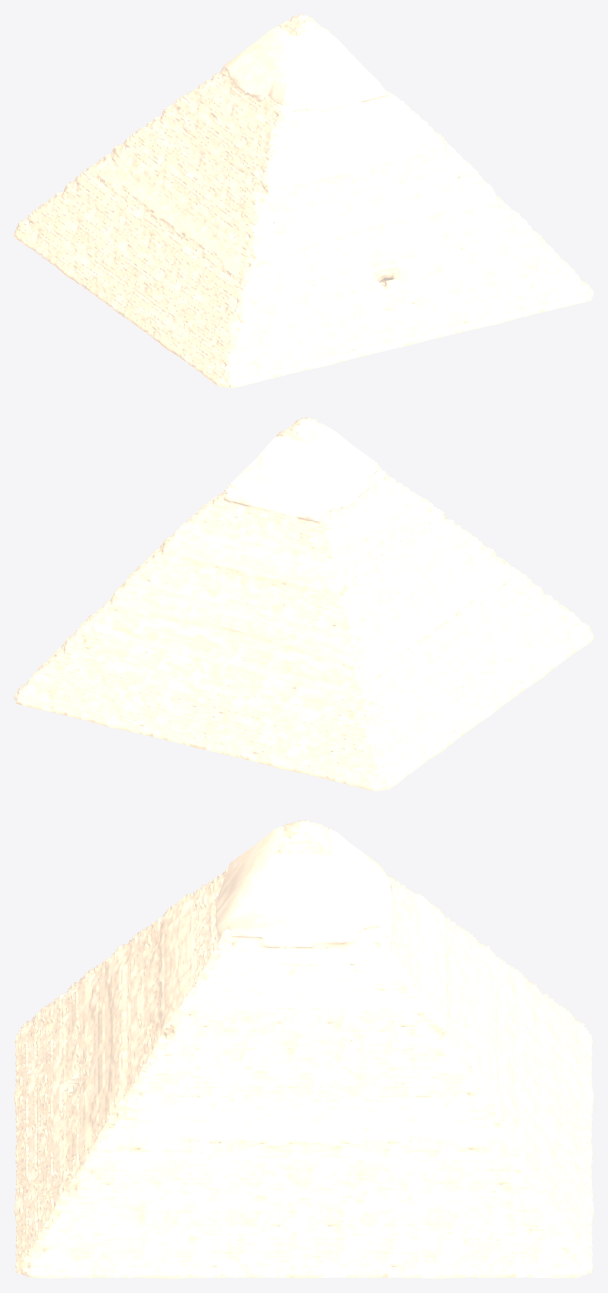
The model's file is 20250702_pyramyds_for_mb_pyramid2f.glb.
3 renders of one model, top to bottom at view 1: azimuth 30°, elevation 25°; view 2: azimuth 150°, elevation 25°; view 3: azimuth 270°, elevation 25°, orthographic. The views are drawn at different scales.
Parts seen in each view (by area): view 1: khafre; view 2: khafre; view 3: khafre.
Boxes of the visible parts, bbox=[...] form: khafre: bbox=[14, 14, 593, 388]; khafre: bbox=[14, 417, 593, 791]; khafre: bbox=[14, 820, 593, 1278].
Bounding box in the file's own units: 217 × 136 × 216.
Materials: 1 (1 with a texture image).
